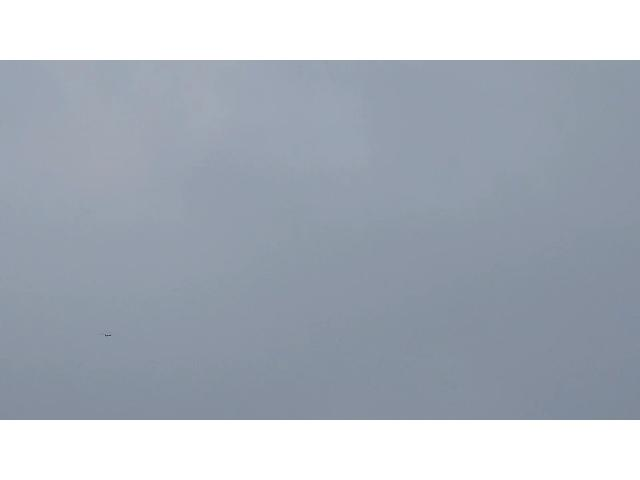Anti-Drone: (99, 331, 113, 337)
